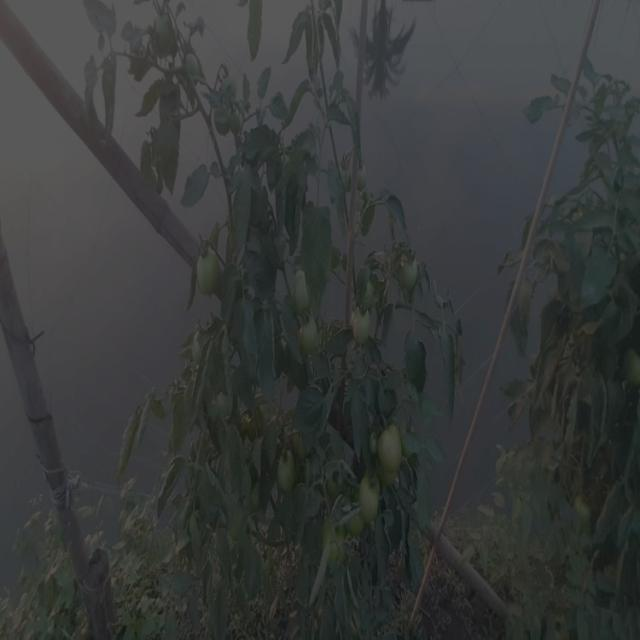tomato: (395, 249, 432, 299), (286, 264, 319, 313), (373, 418, 406, 463), (273, 445, 299, 491), (348, 299, 379, 336), (325, 529, 349, 572), (363, 468, 382, 522), (196, 251, 221, 291), (305, 319, 325, 360), (625, 344, 640, 391), (203, 394, 224, 416)
